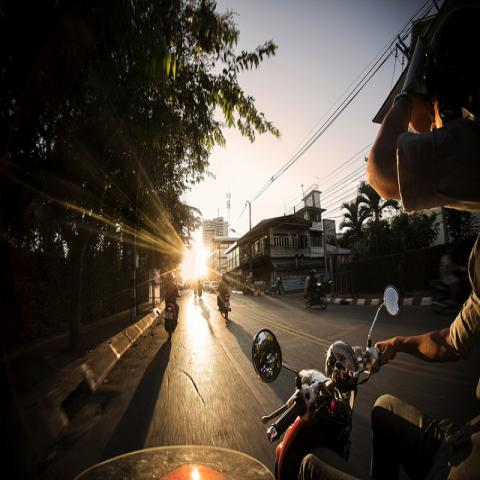motorcycle: (252, 286, 451, 479), (80, 446, 269, 474), (305, 281, 328, 308), (164, 303, 177, 340), (220, 292, 232, 319), (272, 285, 284, 297), (242, 284, 254, 296), (197, 287, 201, 299), (194, 288, 196, 295)
